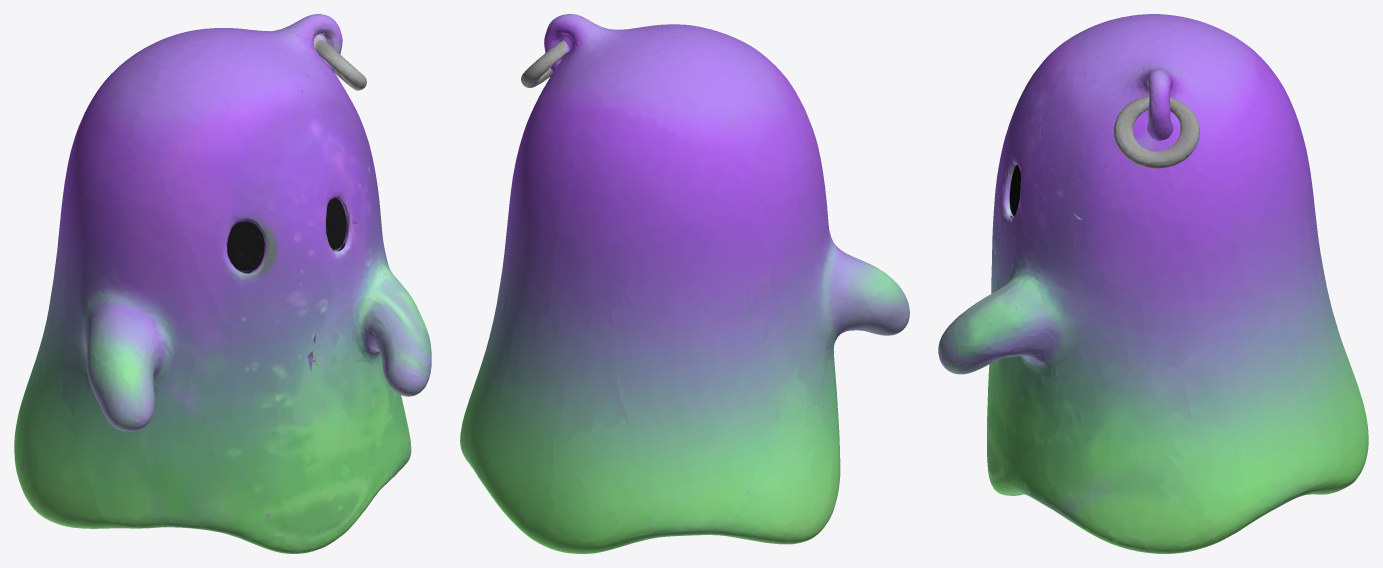
Rendered from momo.glb.
The picture shows the model from 3 angles, left to right: view 1: azimuth 30°, elevation 25°; view 2: azimuth 150°, elevation 25°; view 3: azimuth 270°, elevation 25°; orthographic projection.
Visible parts, largest first — view 1: mesh_node; view 2: mesh_node; view 3: mesh_node.
Boxes of the visible parts, x1,y1,x2,y2 form: mesh_node: (14, 14, 431, 553); mesh_node: (460, 14, 909, 553); mesh_node: (938, 14, 1368, 553).
Bounding box in the file's own units: 1.54 × 1.9 × 1.63.
1 material, 1 textured.
